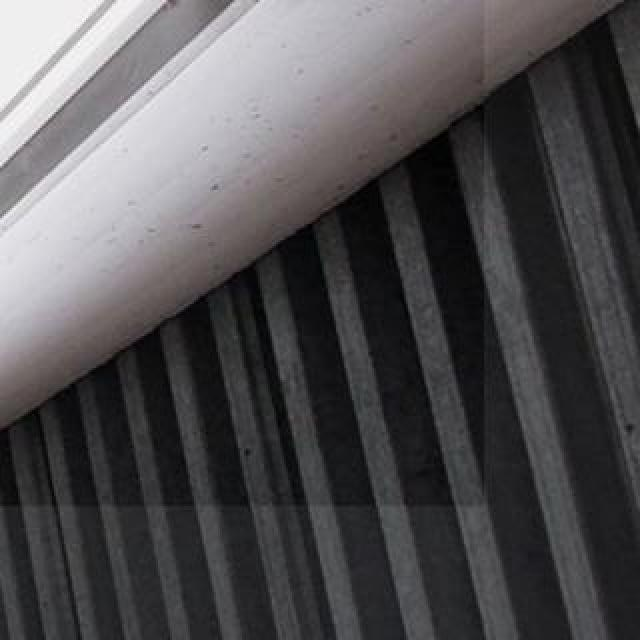fluorescent tube: (0, 0, 472, 514)
